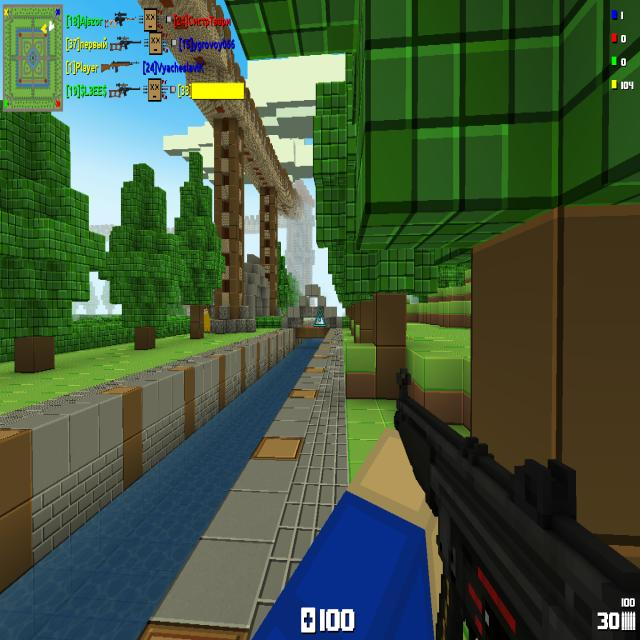enemy: (204, 307, 210, 333)
